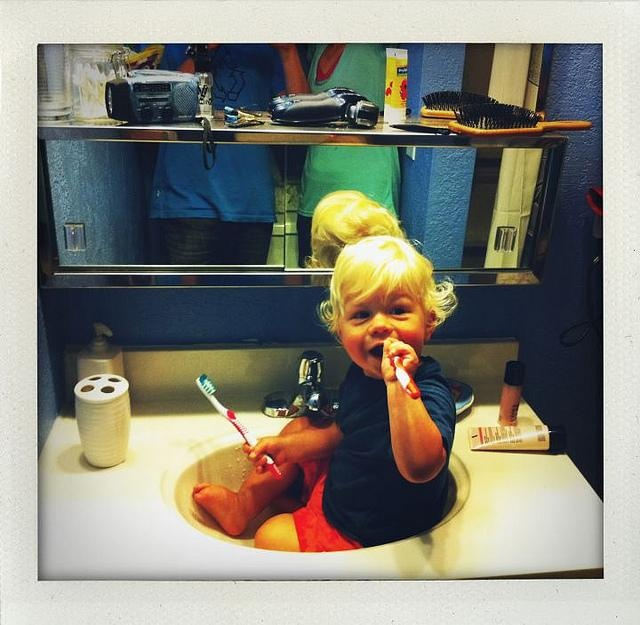person: (192, 235, 474, 557)
